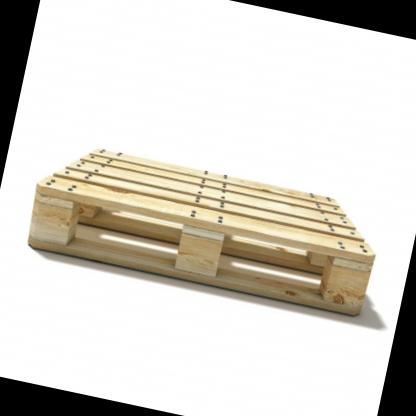BoxFace: (27, 144, 375, 320)
